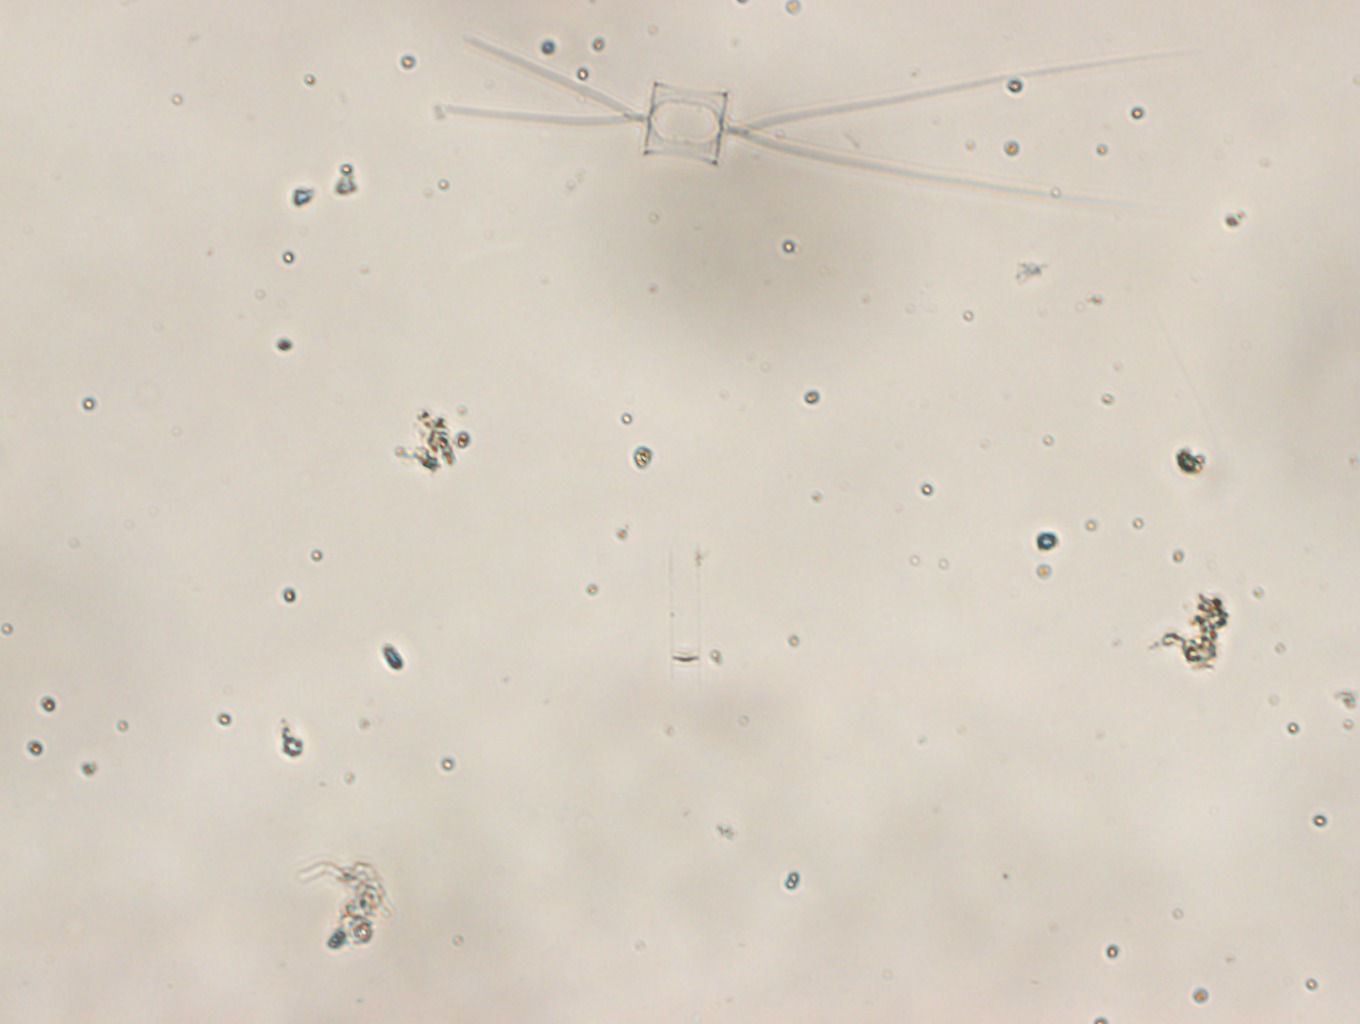chaetoceros: (445, 35, 1199, 205)
